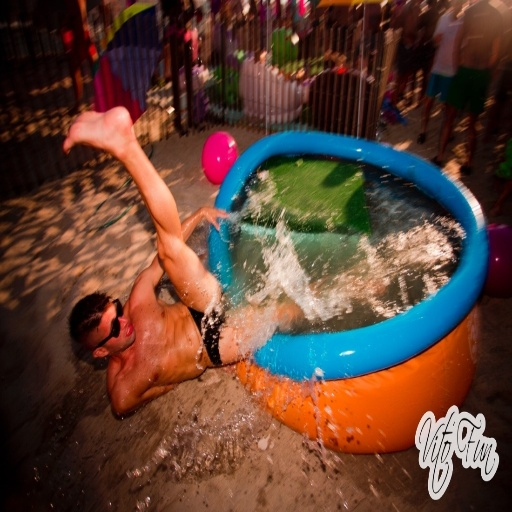hand: (199, 203, 233, 233), (431, 32, 443, 44)
